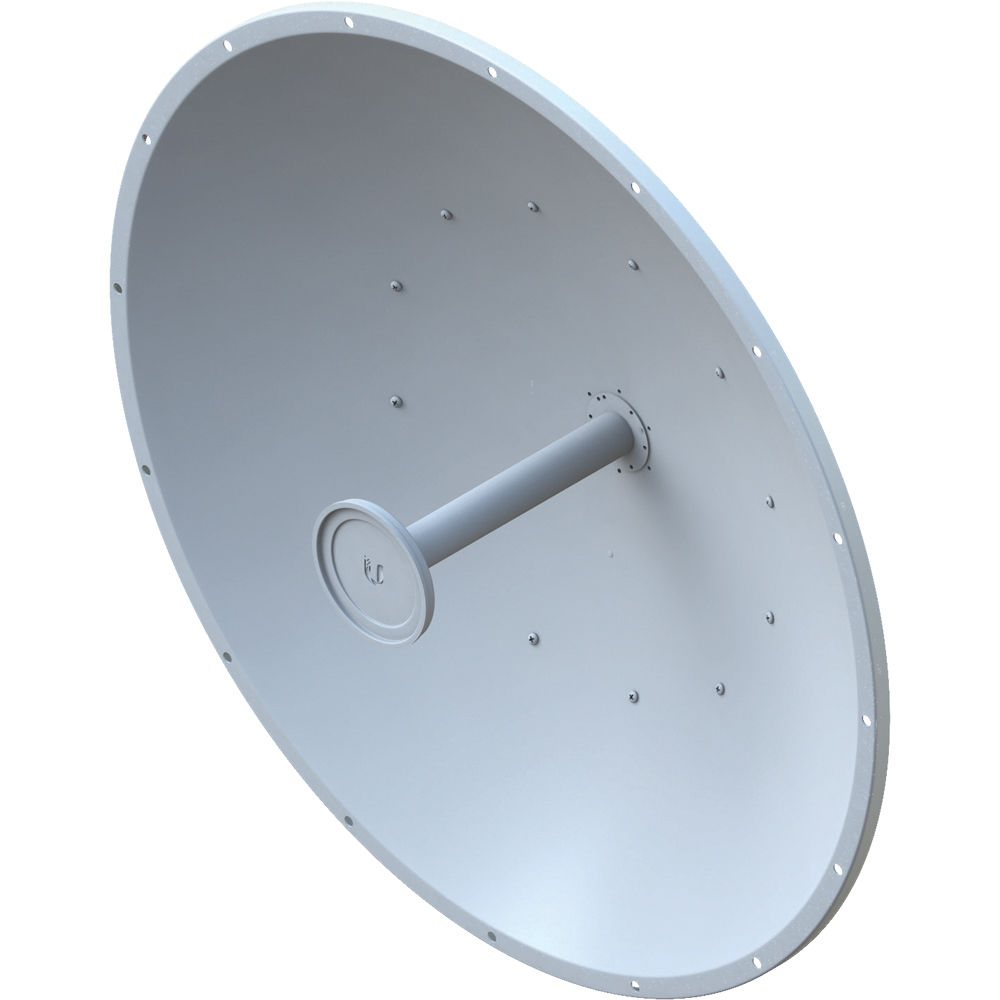ba: (76, 4, 887, 970)
